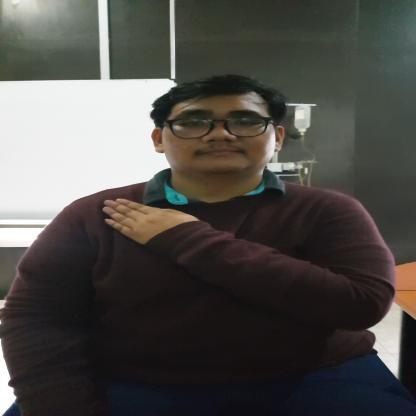Saya: (98, 196, 224, 258)
